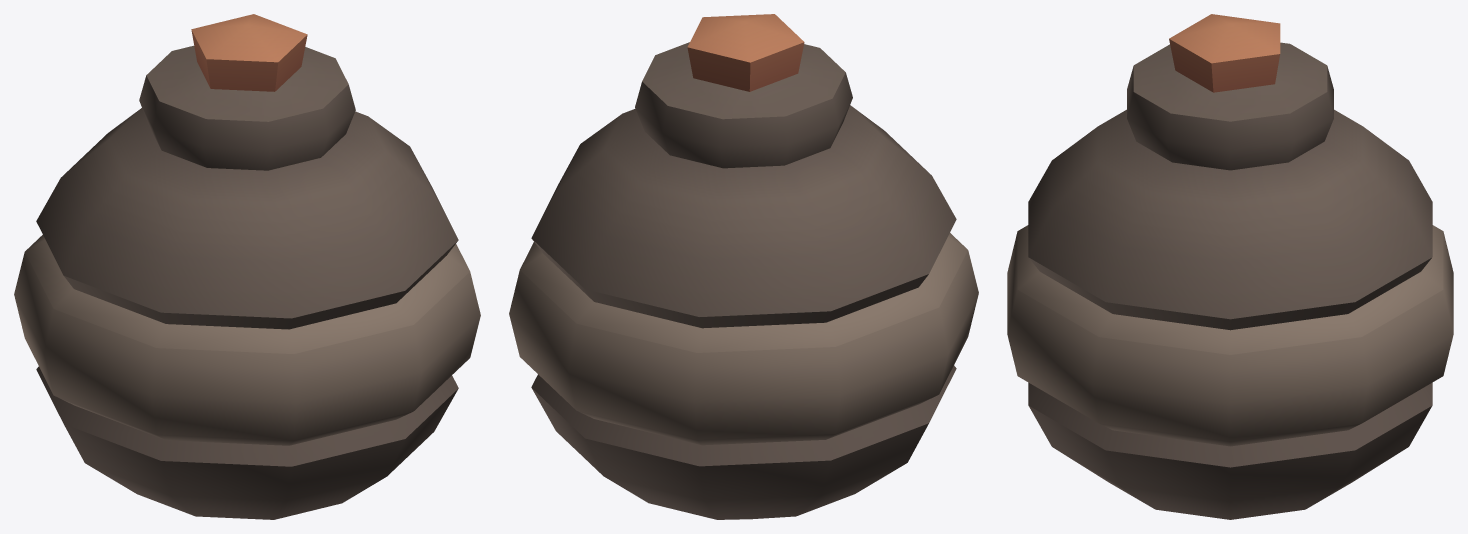
Rendered from smokebomb.gltf.
The picture shows the model from 3 angles, left to right: view 1: azimuth 30°, elevation 25°; view 2: azimuth 150°, elevation 25°; view 3: azimuth 270°, elevation 25°; orthographic projection.
Visible parts, largest first — view 1: smokebomb; view 2: smokebomb; view 3: smokebomb.
Boxes of the visible parts, x1=… form: smokebomb: x1=14, y1=14, x2=480, y2=519; smokebomb: x1=509, y1=14, x2=978, y2=519; smokebomb: x1=1007, y1=14, x2=1453, y2=519.
Size of the model in its own units: 0.3826 by 0.4231 by 0.3638.
1 material, 1 textured.
